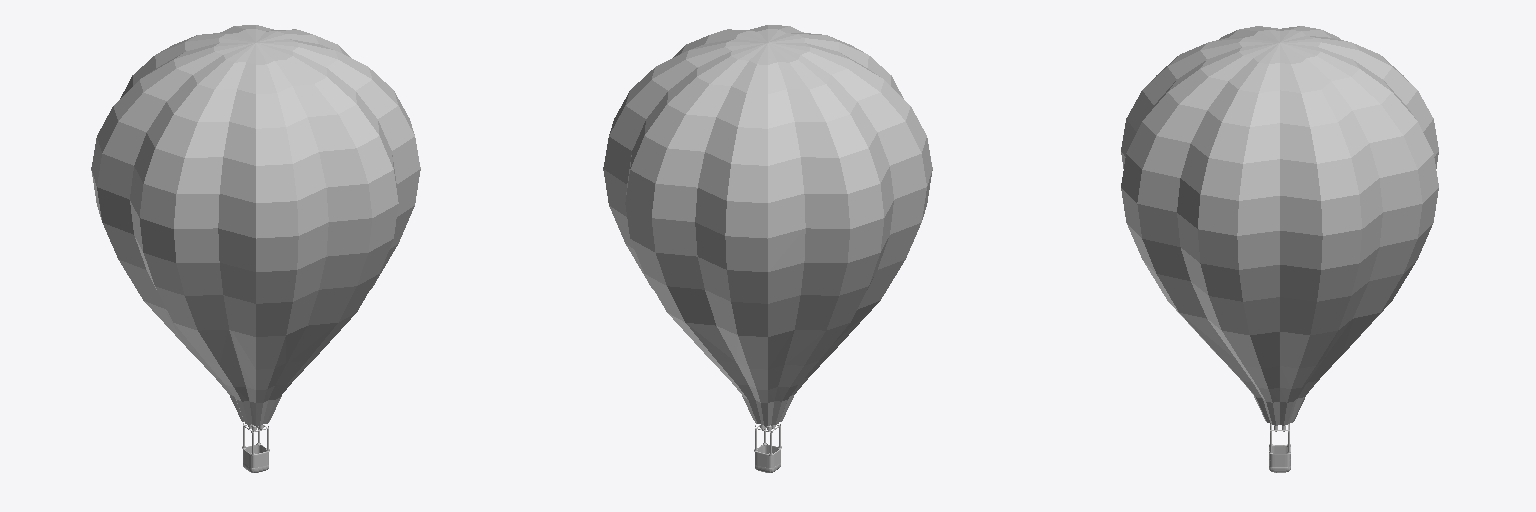
The model's file is ballon.obj.
3 renders of one model, left to right at view 1: azimuth 30°, elevation 25°; view 2: azimuth 150°, elevation 25°; view 3: azimuth 270°, elevation 25°, orthographic.
Visible parts, largest first — view 1: Sphere_Sphere_002, Circle; view 2: Sphere_Sphere_002, Circle; view 3: Sphere_Sphere_002, Circle.
Boxes of the visible parts, x1=… form: Sphere_Sphere_002: x1=91, y1=25, x2=420, y2=425; Circle: x1=242, y1=421, x2=269, y2=472; Sphere_Sphere_002: x1=603, y1=25, x2=932, y2=425; Circle: x1=754, y1=424, x2=781, y2=472; Sphere_Sphere_002: x1=1121, y1=26, x2=1438, y2=425; Circle: x1=1269, y1=424, x2=1290, y2=472.
Size of the model in its own units: 22.42 by 33.16 by 22.42.